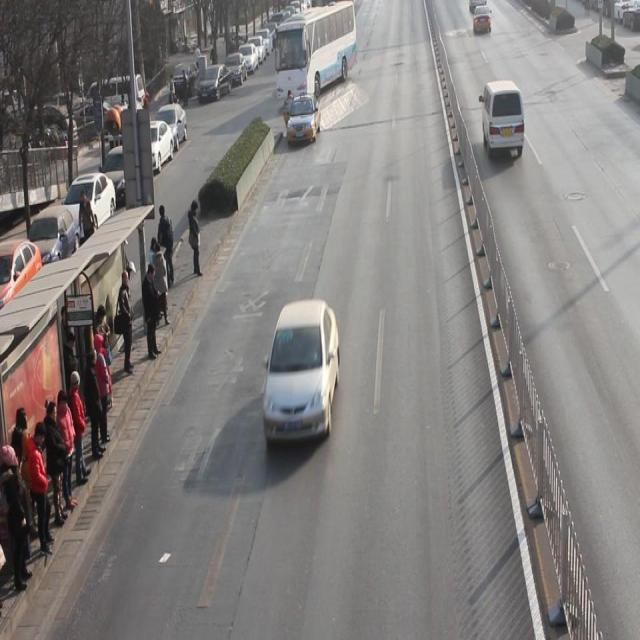car: (261, 301, 340, 442), (287, 94, 322, 144), (473, 1, 492, 36)
truck: (482, 80, 525, 158)
van: (274, 8, 357, 102)
